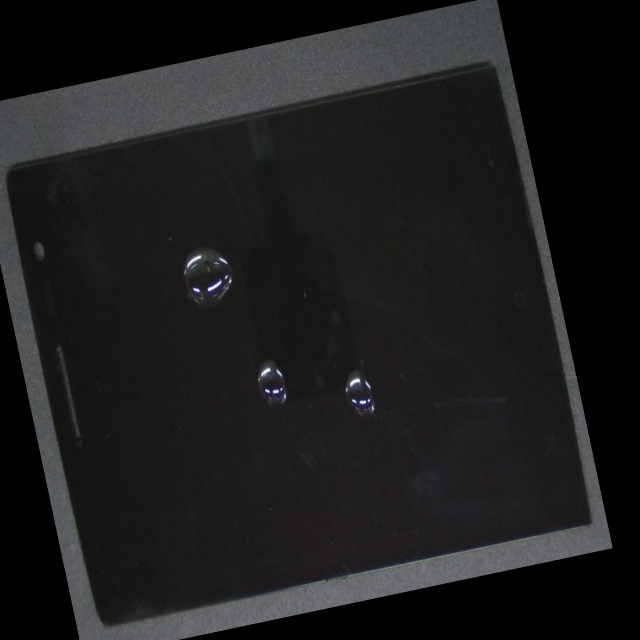oil: (181, 194, 572, 582), (137, 188, 433, 541), (107, 151, 360, 380)
